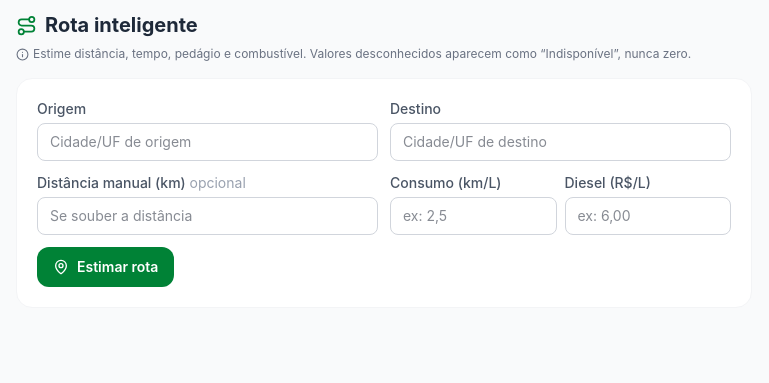
it: RotaInteligente › exige origem e destino
Click the button "Estimar rota". click: [106, 267]
box: [37, 247, 174, 287]
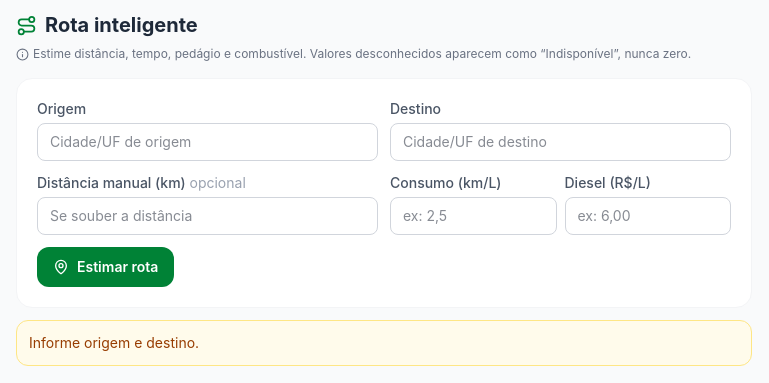
Now the text "Informe origem e destino." is shown, box [16, 320, 752, 366]
